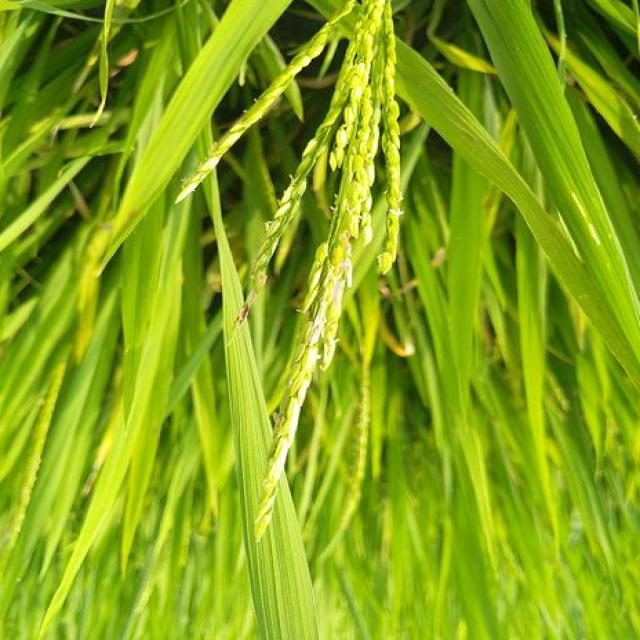Panicle Blight: (236, 60, 400, 540)
